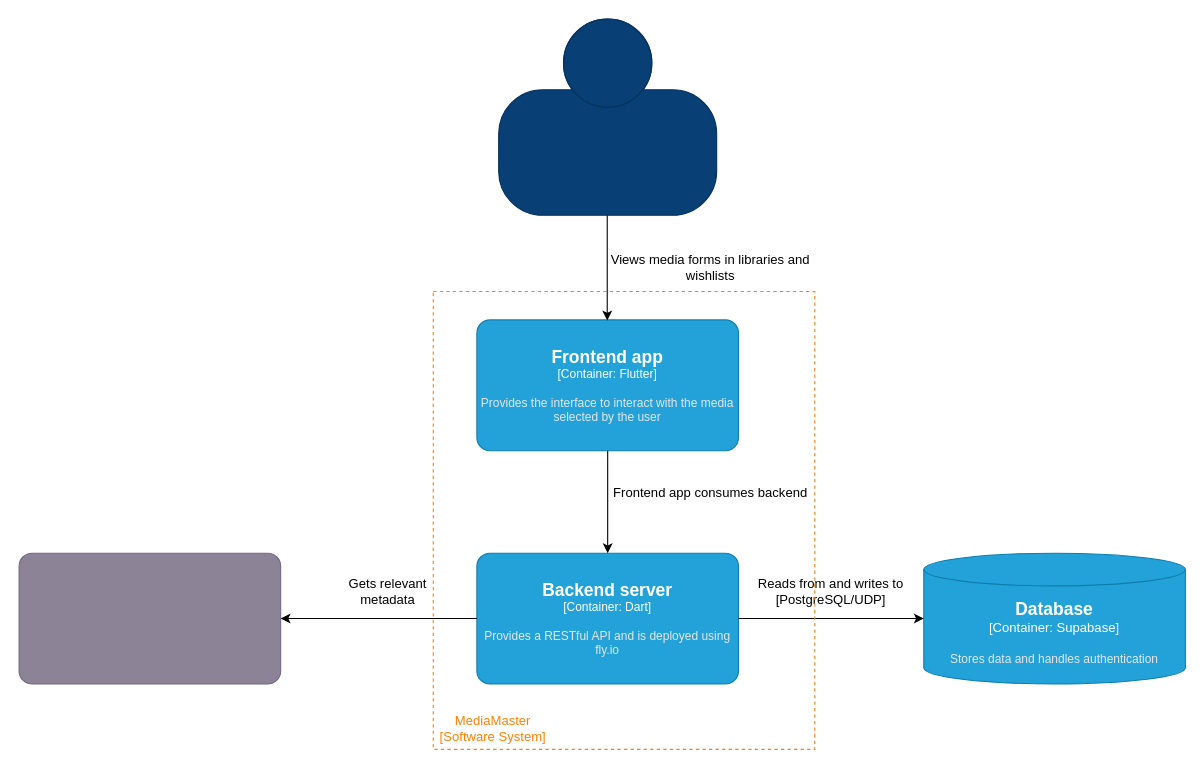
Some shapes in this 1204 by 768 pixel diagram are drawn without their labels. Each missing label, with the box of its shape:
Media Consumer [Person] A media enjoyer: (498, 18, 717, 215)
Services [Software System] External APIs + Scraping: (18, 552, 281, 684)
